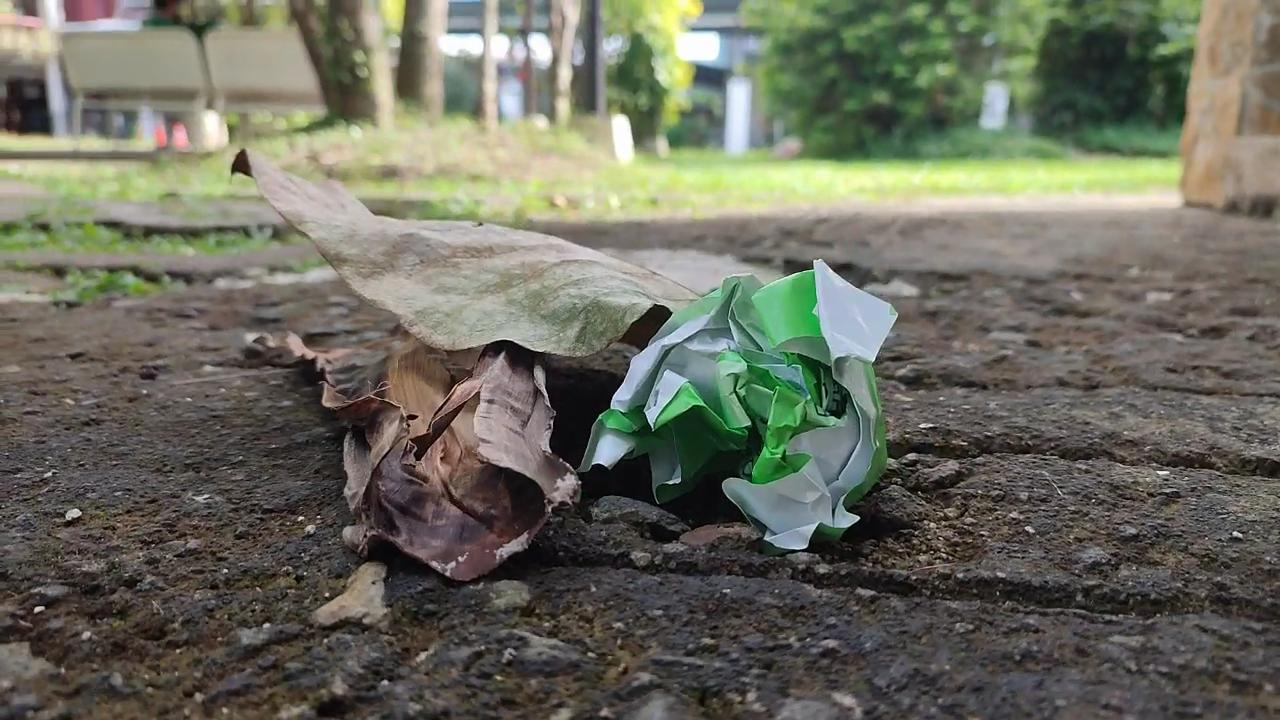Paper: (572, 253, 922, 561)
